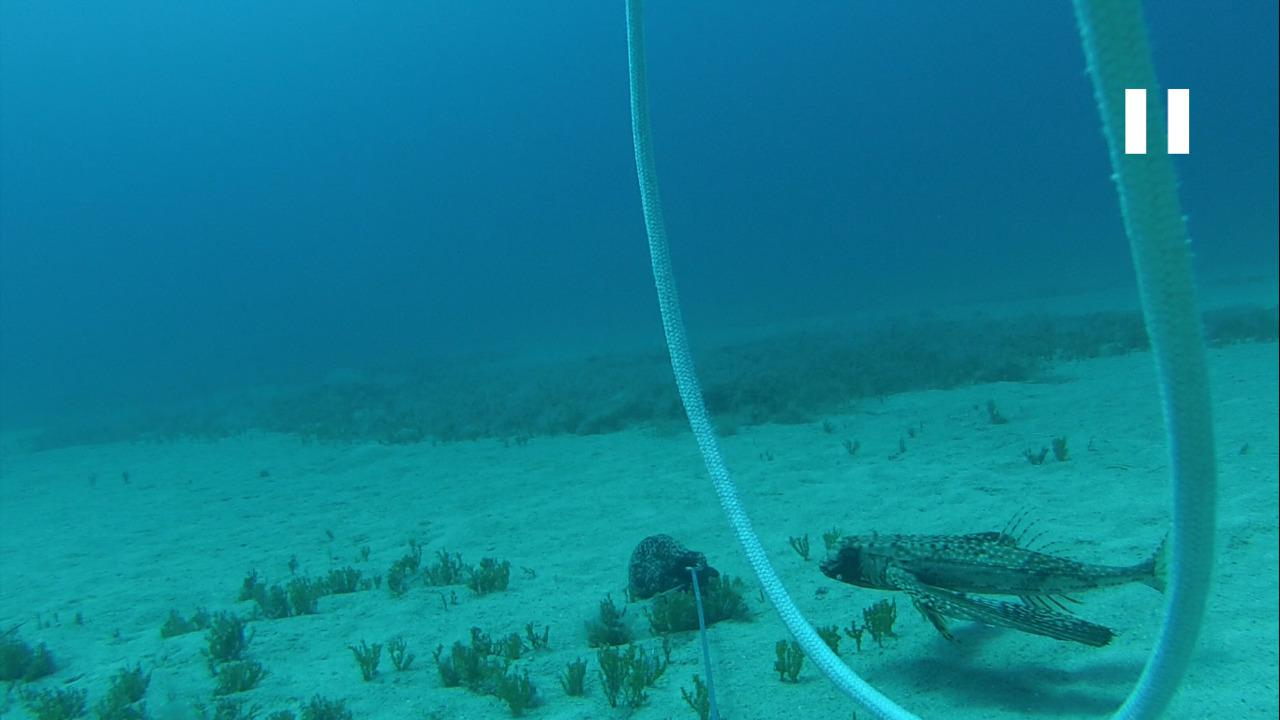dactylopterus: (816, 514, 1172, 660)
